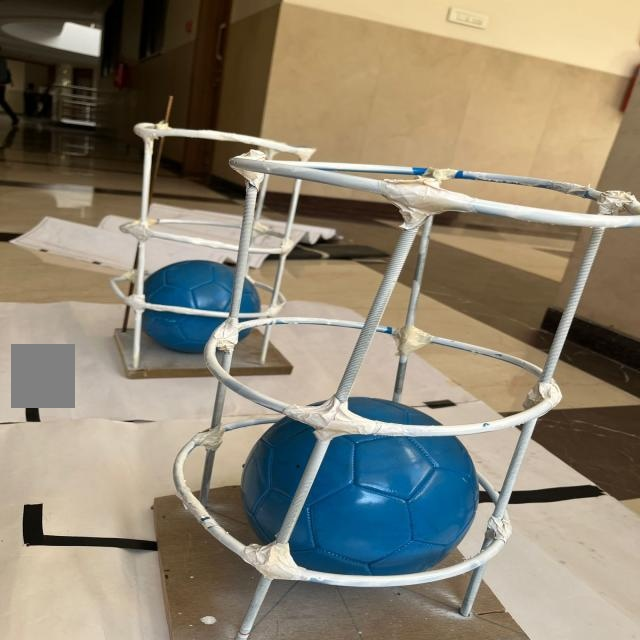blue_ball: (239, 396, 476, 575), (148, 261, 260, 348)
silo: (172, 149, 640, 640), (135, 123, 289, 378)
